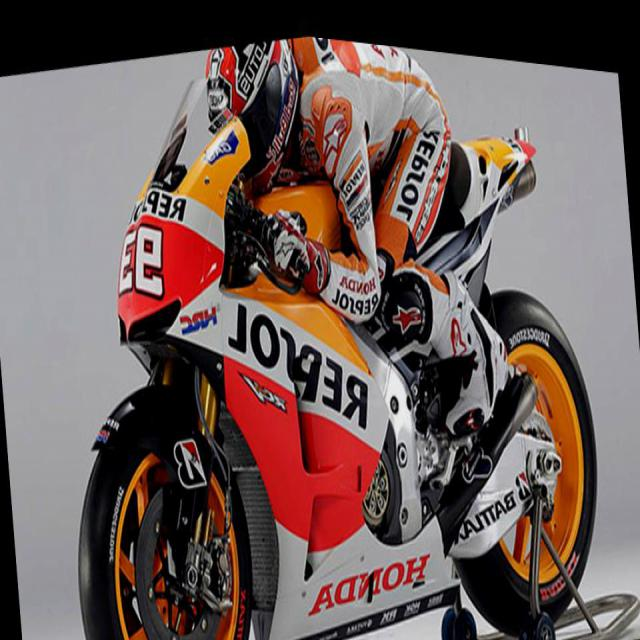HRC RCV 213: (39, 3, 612, 639)
